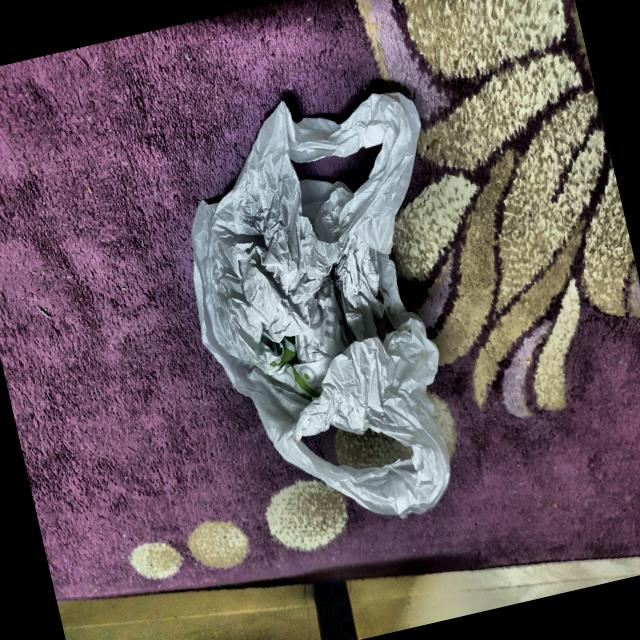plastic bag: (146, 52, 517, 566)
